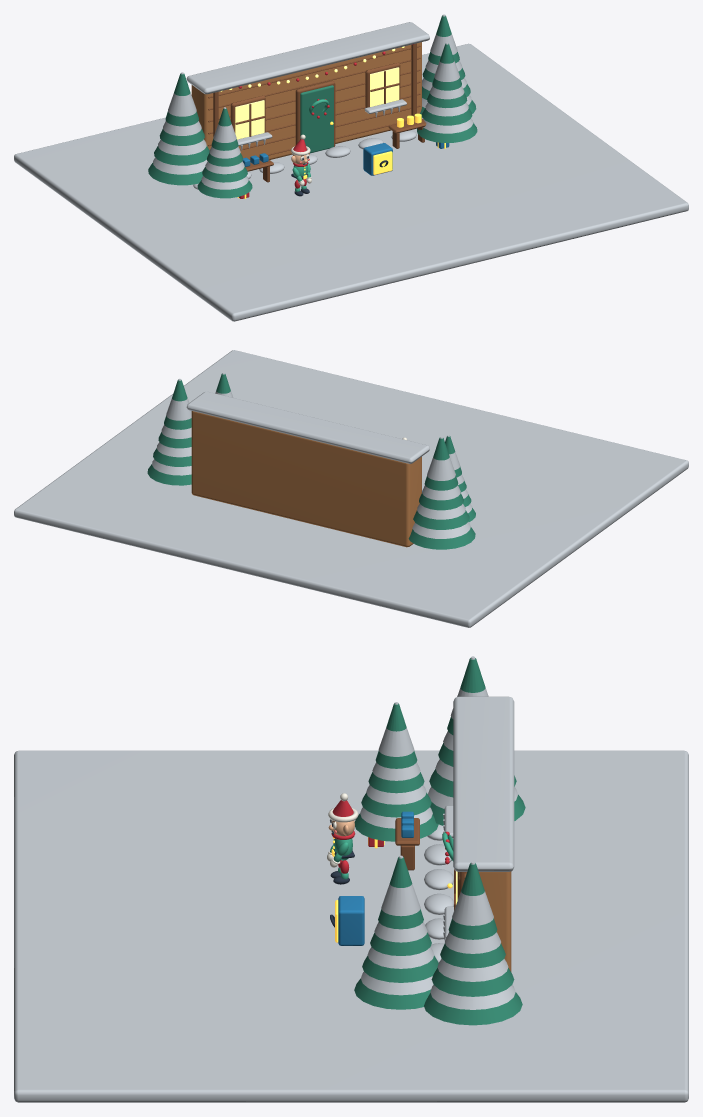
Rendered from chapter-20.glb.
3 views of the same model, one above another, from view 1: azimuth 30°, elevation 25°; view 2: azimuth 150°, elevation 25°; view 3: azimuth 270°, elevation 25° (orthographic). The views are drawn at different scales.
Parts seen in each view (by area): view 1: Schneeboden, Werkstatt, Schneegesims, Wichteltür, Warmes Fenster, Warmes Fenster.001, Tannenzweig.008, Tannenzweig.009, Türrahmen, Tannenzweig.004, Tannenzweig.011, Schnee.011 (+7 smaller); view 2: Schneeboden, Werkstatt, Schneegesims, Tannenzweig.008, Tannenzweig.009, Tannenzweig.011, Schnee.008, Schnee.011, Tannenzweig.015, Tannenzweig.012, Tannenzweig.010, Schnee.009 (+1 smaller); view 3: Schneeboden, Schneegesims, Werkstatt, Tannenzweig.012, Tresor, Tannenzweig.013, Tannenzweig.015, Schnee.012, Tannenzweig.005, Tannenzweig.004, Schnee.015, Tannenzweig.007 (+15 smaller).
Part boxes in pixels (<box>): Schneeboden: <box>14,43,688,321</box>; Werkstatt: <box>191,42,421,160</box>; Schneegesims: <box>186,22,429,94</box>; Wichteltür: <box>300,85,333,153</box>; Warmes Fenster: <box>235,100,264,139</box>; Warmes Fenster.001: <box>370,67,399,106</box>; Tannenzweig.008: <box>148,163,202,185</box>; Tannenzweig.009: <box>154,146,209,165</box>; Türrahmen: <box>295,81,335,146</box>; Tannenzweig.004: <box>417,122,477,142</box>; Tannenzweig.011: <box>165,73,198,126</box>; Schnee.011: <box>168,72,196,116</box>; Schneeboden: <box>14,350,688,627</box>; Werkstatt: <box>191,411,421,547</box>; Schneegesims: <box>186,391,429,463</box>; Tannenzweig.008: <box>408,527,475,549</box>; Tannenzweig.009: <box>413,510,469,529</box>; Tannenzweig.011: <box>424,437,458,490</box>; Schnee.008: <box>412,522,470,538</box>; Schnee.011: <box>427,436,455,480</box>; Tannenzweig.015: <box>164,380,191,429</box>; Tannenzweig.012: <box>147,464,191,485</box>; Tannenzweig.010: <box>419,493,463,510</box>; Schnee.009: <box>417,504,465,519</box>; Schneeboden: <box>14,750,688,1102</box>; Schneegesims: <box>453,696,514,871</box>; Werkstatt: <box>466,871,511,971</box>; Tannenzweig.012: <box>424,992,522,1025</box>; Tresor: <box>338,896,364,945</box>; Tannenzweig.013: <box>431,968,514,996</box>; Tannenzweig.015: <box>448,863,497,939</box>; Schnee.012: <box>430,985,515,1009</box>; Tannenzweig.005: <box>362,955,438,982</box>; Tannenzweig.004: <box>354,978,430,1009</box>; Schnee.015: <box>452,861,493,925</box>; Tannenzweig.007: <box>378,857,423,929</box>.
Size of the model in its own units: 18 by 4.39 by 15.
